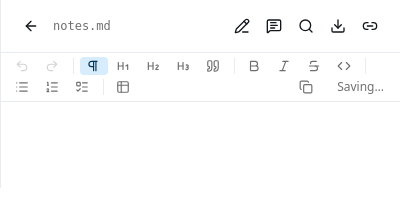
FileViewer markdown preview/edit/source modes › offers Preview, Edit, and Source options in the view-mode menu
Press the mouse on the button named "View mode" at (242, 26), box [228,12,256,40]
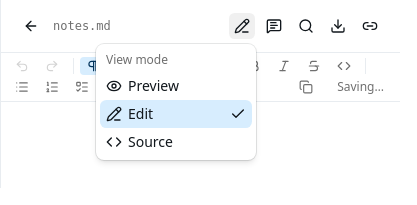
Expected: the menu item "Preview" is shown, [106,76,179,95]
Expected: the menu item "Edit" is shown, [100,100,252,128]
Expected: the menu item "Source" is shown, [106,132,173,151]
